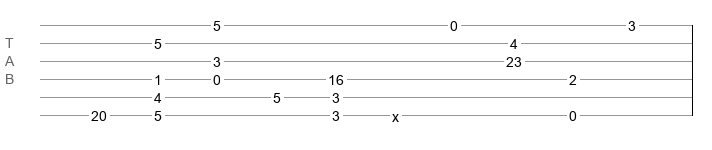0: (213, 72, 221, 82), (450, 18, 458, 28), (569, 108, 577, 118)
1: (154, 72, 162, 82)
16: (328, 72, 344, 82)
2: (569, 72, 577, 82)
20: (91, 108, 107, 118)
23: (506, 54, 522, 64)
3: (213, 54, 221, 64), (332, 108, 340, 118), (332, 90, 340, 100), (628, 18, 636, 28)
4: (154, 90, 162, 100), (510, 36, 518, 46)
5: (154, 108, 162, 118), (154, 36, 162, 46), (213, 18, 221, 28), (273, 90, 281, 100)
x: (392, 109, 399, 117)
